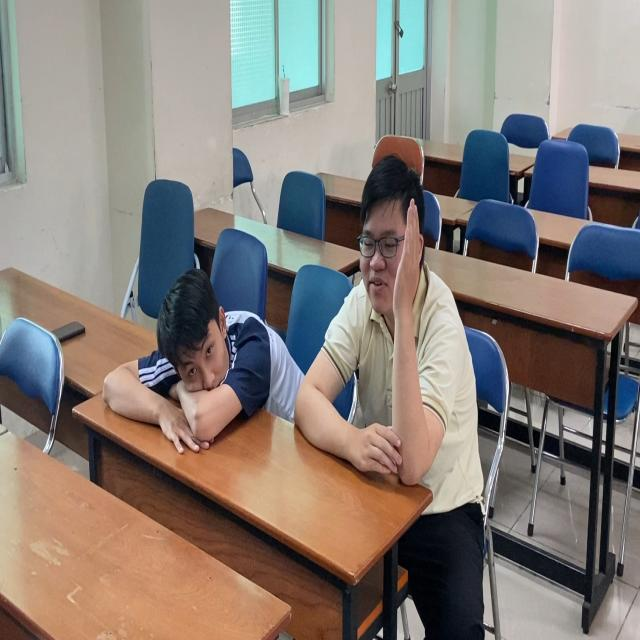raise_hand: (306, 152, 481, 500)
sleep: (104, 265, 294, 449)
